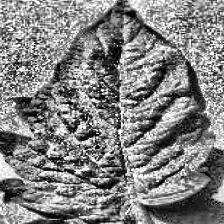Blossom Blight: (110, 105, 151, 172), (32, 102, 89, 139), (68, 36, 114, 73), (124, 63, 163, 96), (177, 146, 209, 165)
